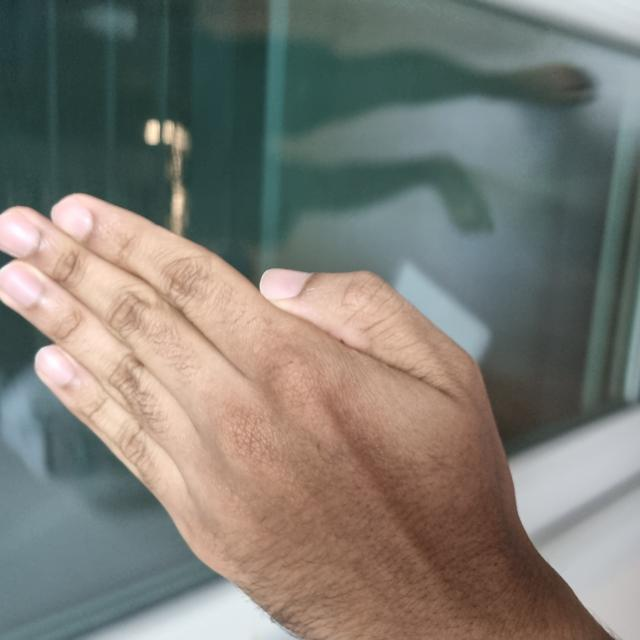Paper: (5, 0, 445, 508)
